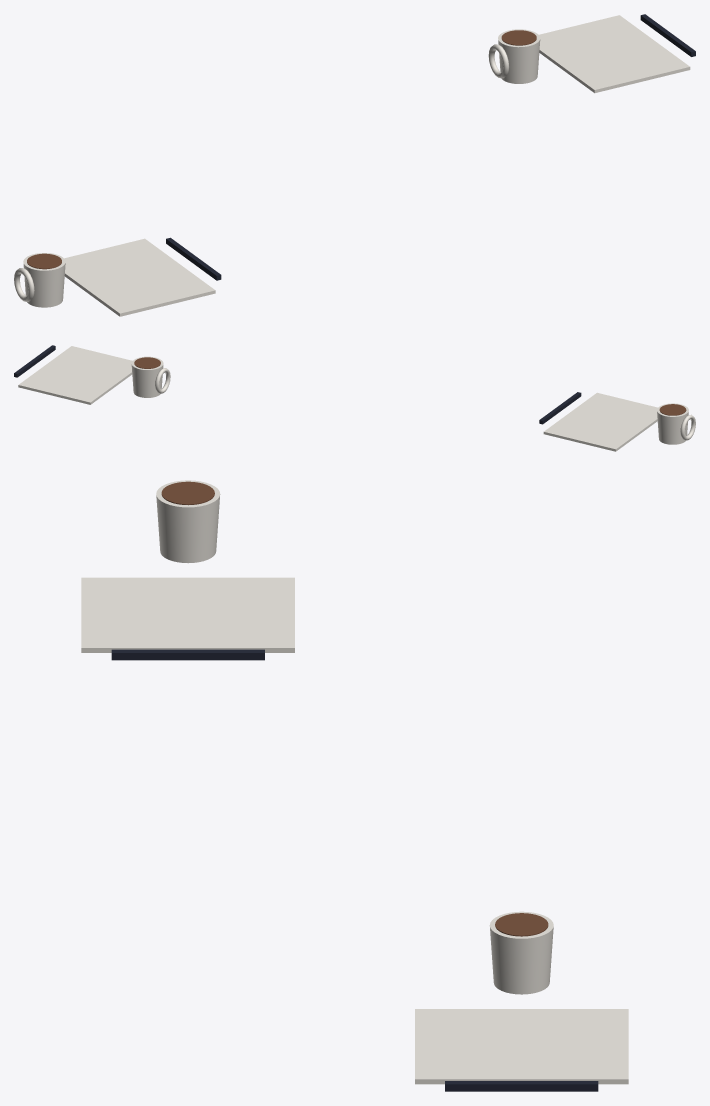
Rendered from stationery.glb.
3 renders of one model, top to bottom at view 1: azimuth 30°, elevation 25°; view 2: azimuth 150°, elevation 25°; view 3: azimuth 270°, elevation 25°, orthographic. The views are drawn at different scales.
Size of the model in its own units: 1.99 by 0.099 by 0.82.
